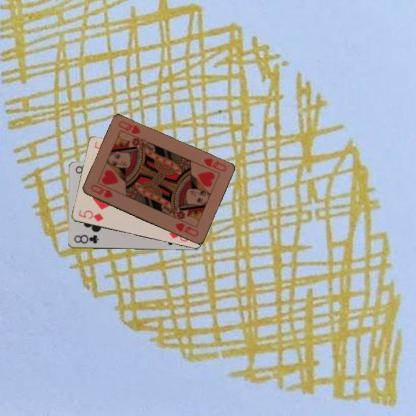5d: (76, 207, 104, 223)
8c: (72, 232, 100, 245)
Qh: (200, 155, 228, 173), (88, 182, 114, 199)
